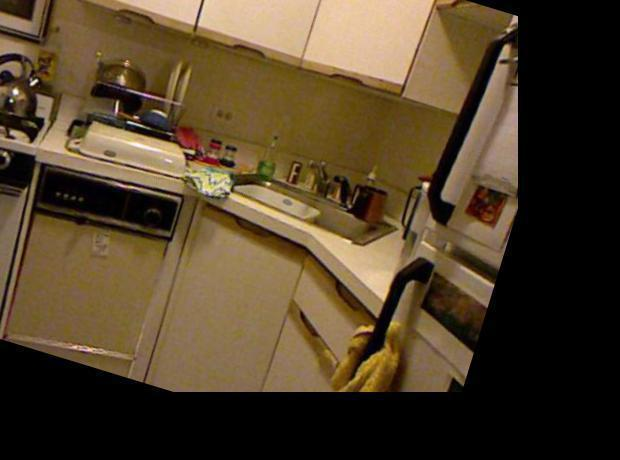Electrodomestico: (342, 23, 563, 460), (0, 134, 191, 378), (0, 56, 70, 337)
Lavaplatos: (199, 118, 419, 269)
